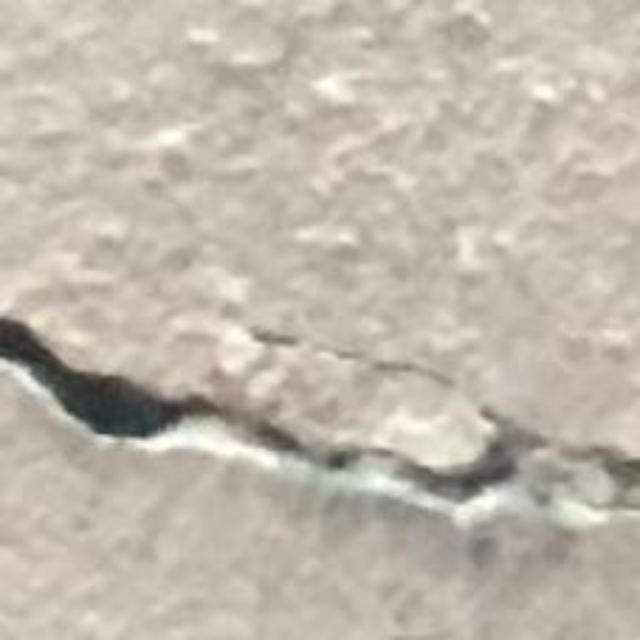crack: (0, 316, 639, 527)
